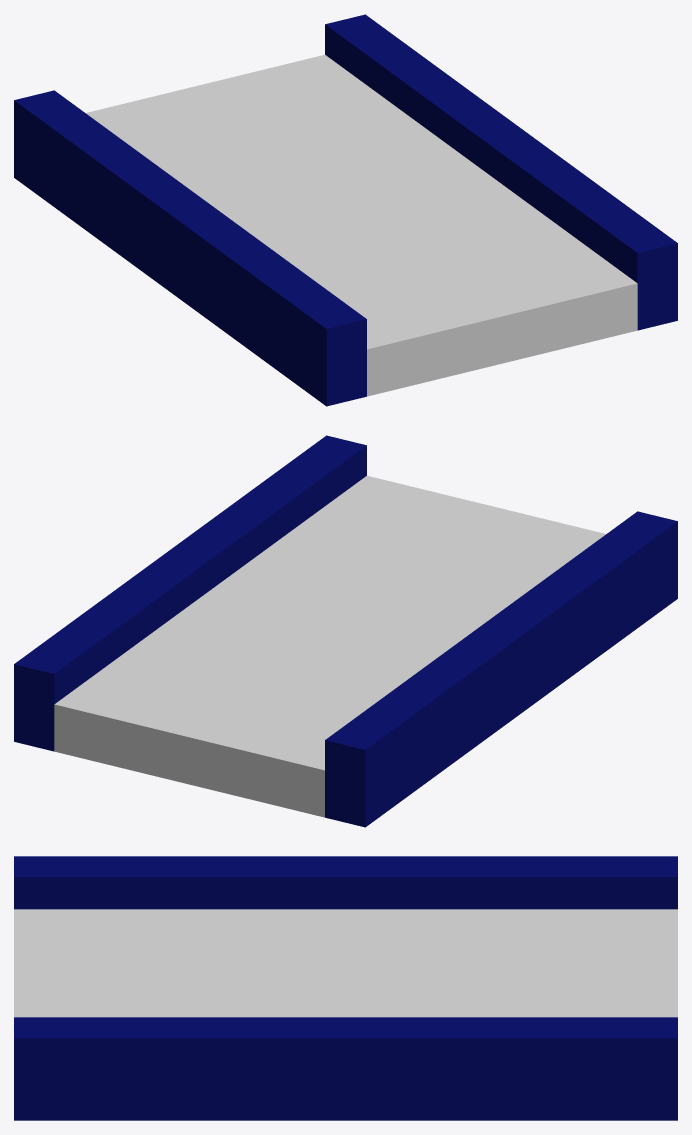
File: road.obj
The picture shows the model from 3 angles, top to bottom: view 1: azimuth 30°, elevation 25°; view 2: azimuth 150°, elevation 25°; view 3: azimuth 270°, elevation 25°; orthographic projection. The views are drawn at different scales.
Visible parts, largest first — view 1: Cube_Cube.001; view 2: Cube_Cube.001; view 3: Cube_Cube.001.
Boxes of the visible parts, x1,y1,x2,y2 form: Cube_Cube.001: (14,14,677,406); Cube_Cube.001: (14,435,677,827); Cube_Cube.001: (14,856,677,1120).
Bounding box in the file's own units: 3.9 × 0.8213 × 6.
